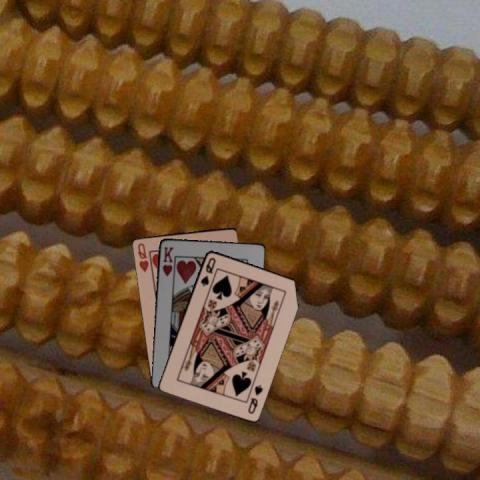Kh: (159, 244, 175, 278)
Qh: (135, 240, 150, 273)
Qs: (197, 254, 217, 287), (245, 382, 264, 415)
